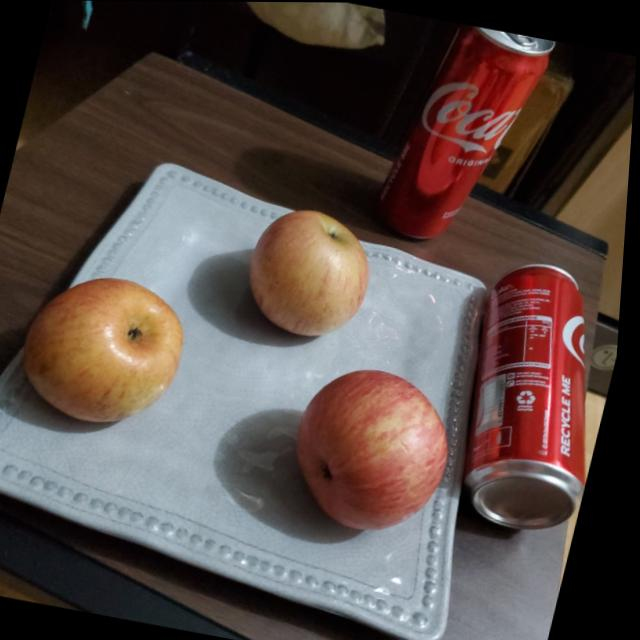apple: (283, 356, 474, 542), (10, 270, 199, 444), (236, 199, 387, 344)
coke: (439, 254, 627, 544), (374, 16, 558, 252)
